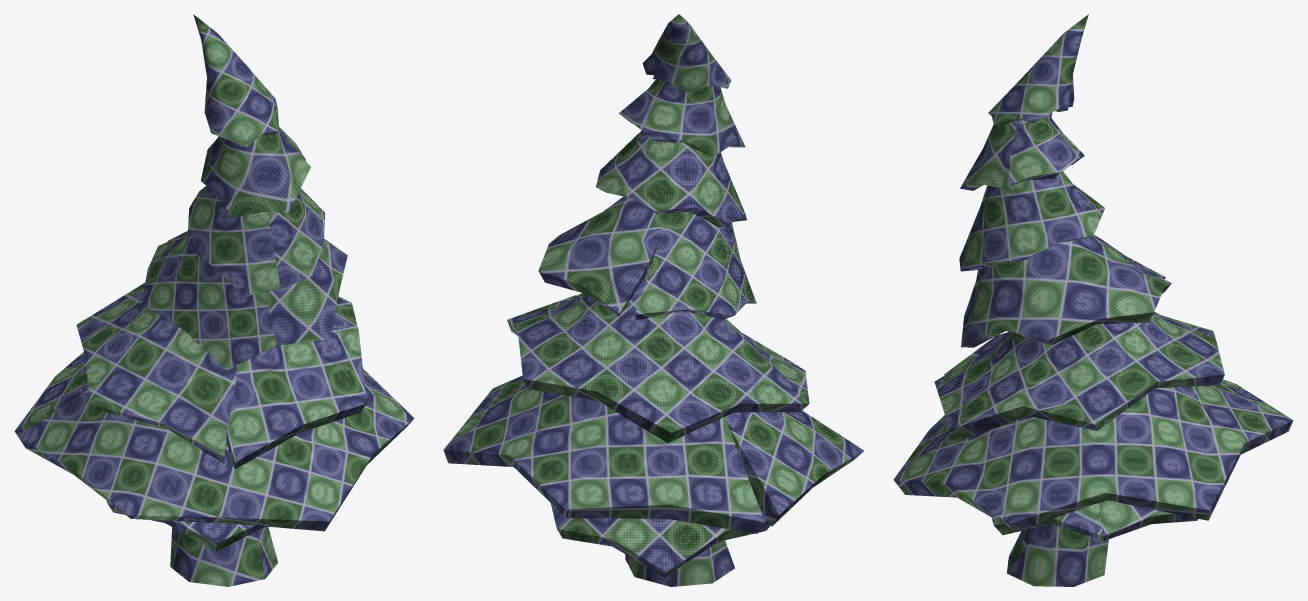
The model's file is SM_Tree_02_Unity.FBX.
3 renders of one model, left to right at view 1: azimuth 30°, elevation 25°; view 2: azimuth 150°, elevation 25°; view 3: azimuth 270°, elevation 25°, orthographic. The views are drawn at different scales.
Visible parts, largest first — view 1: SM_Tree_02; view 2: SM_Tree_02; view 3: SM_Tree_02.
Boxes of the visible parts, x1,y1,x2,y2 form: SM_Tree_02: (14,14,414,586); SM_Tree_02: (443,14,864,586); SM_Tree_02: (893,14,1293,586).
Bounding box in the file's own units: 82.29 × 89.59 × 134.
Materials: 1 (1 with a texture image).
